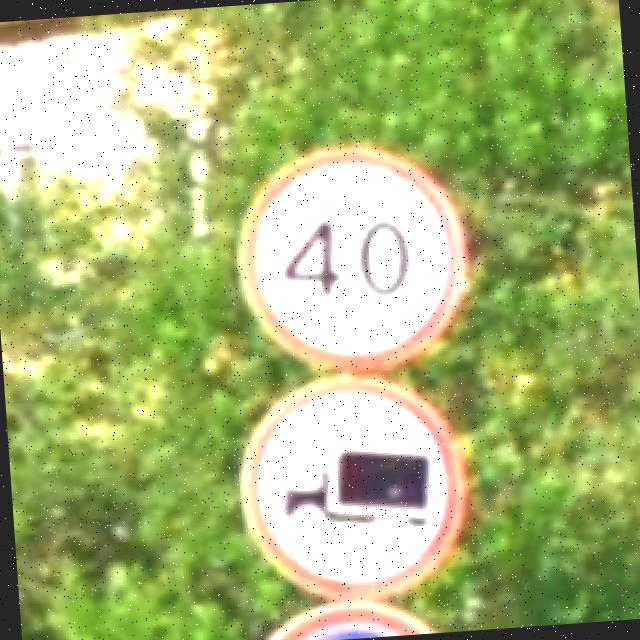Ograniczenie predkosci do 40: (227, 140, 475, 382)
